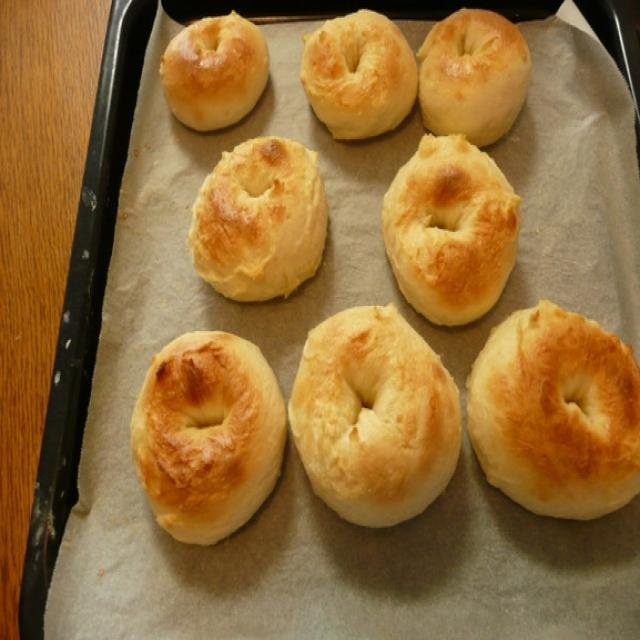面包点心: (13, 10, 629, 634)
